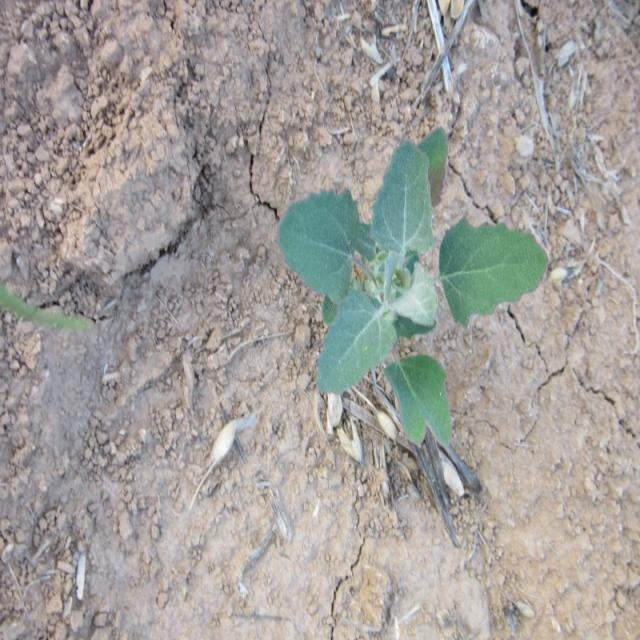ca: (276, 130, 544, 442)
